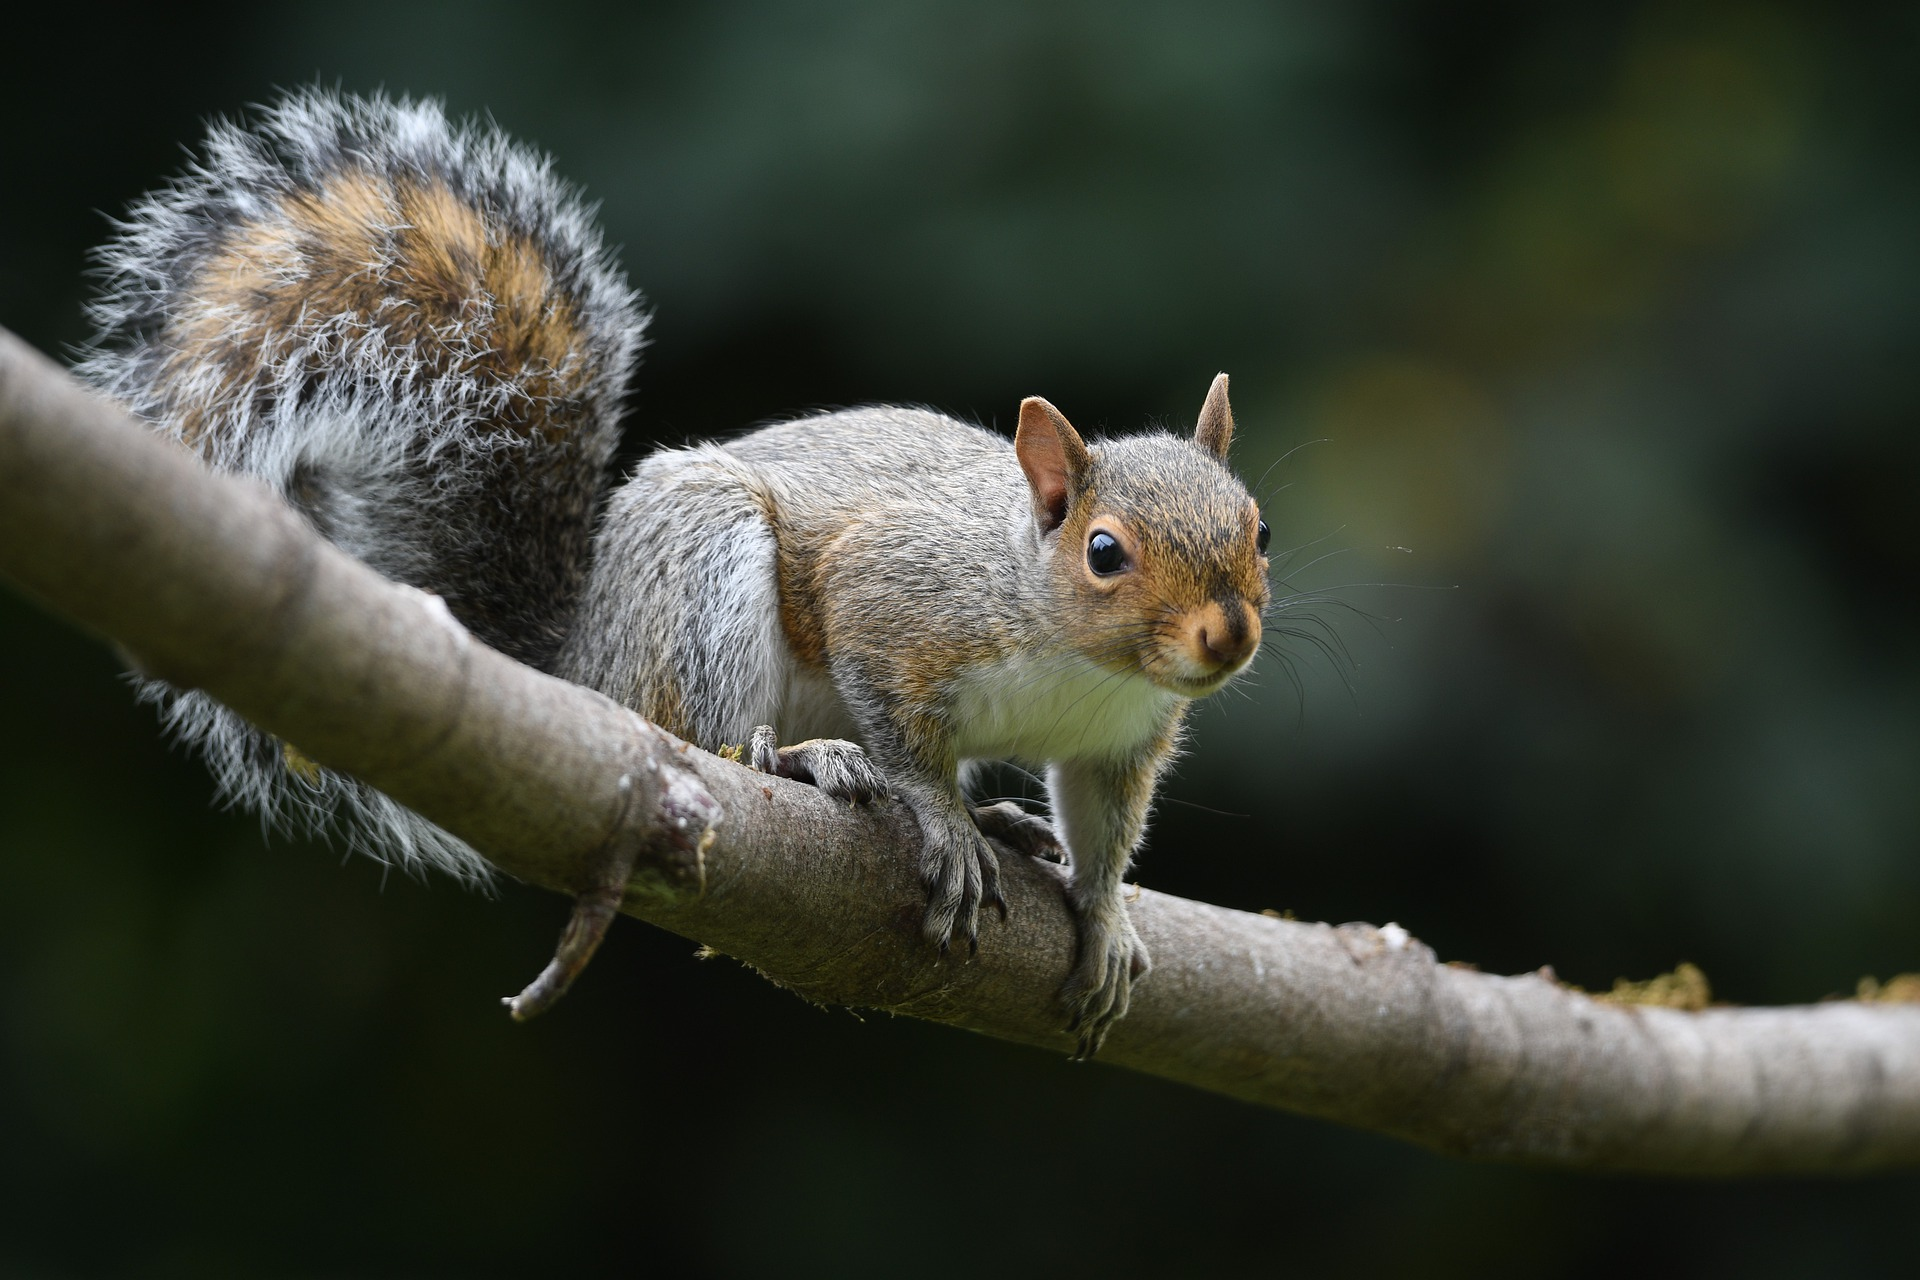squirrel: (83, 79, 1336, 1071)
